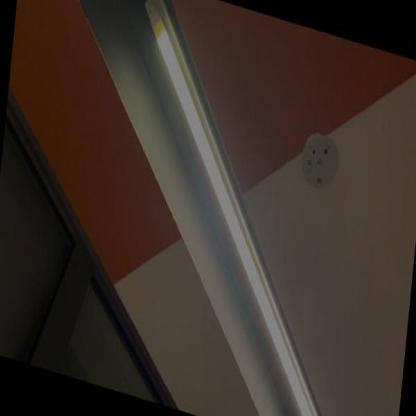light_on: (98, 0, 371, 415)
